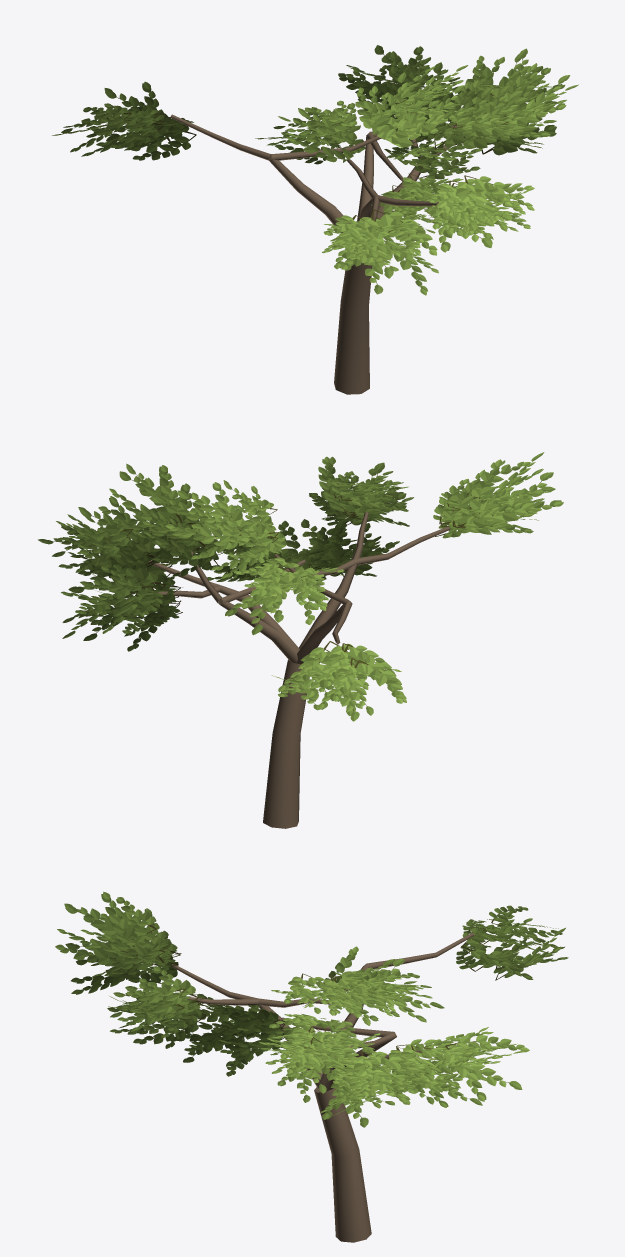
Rendered from acacia_2_mid.glb.
The picture shows the model from 3 angles, top to bottom: view 1: azimuth 30°, elevation 25°; view 2: azimuth 150°, elevation 25°; view 3: azimuth 270°, elevation 25°; orthographic projection. The views are drawn at different scales.
Visible parts, largest first — view 1: acacia_2_mid; view 2: acacia_2_mid; view 3: acacia_2_mid.
Part boxes in pixels (bbox=[...]): acacia_2_mid: bbox=[52, 45, 578, 394]; acacia_2_mid: bbox=[38, 452, 563, 828]; acacia_2_mid: bbox=[55, 891, 568, 1242].
Bounding box in the file's own units: 9.71 × 5.99 × 10.57.
2 materials, 1 textured.
